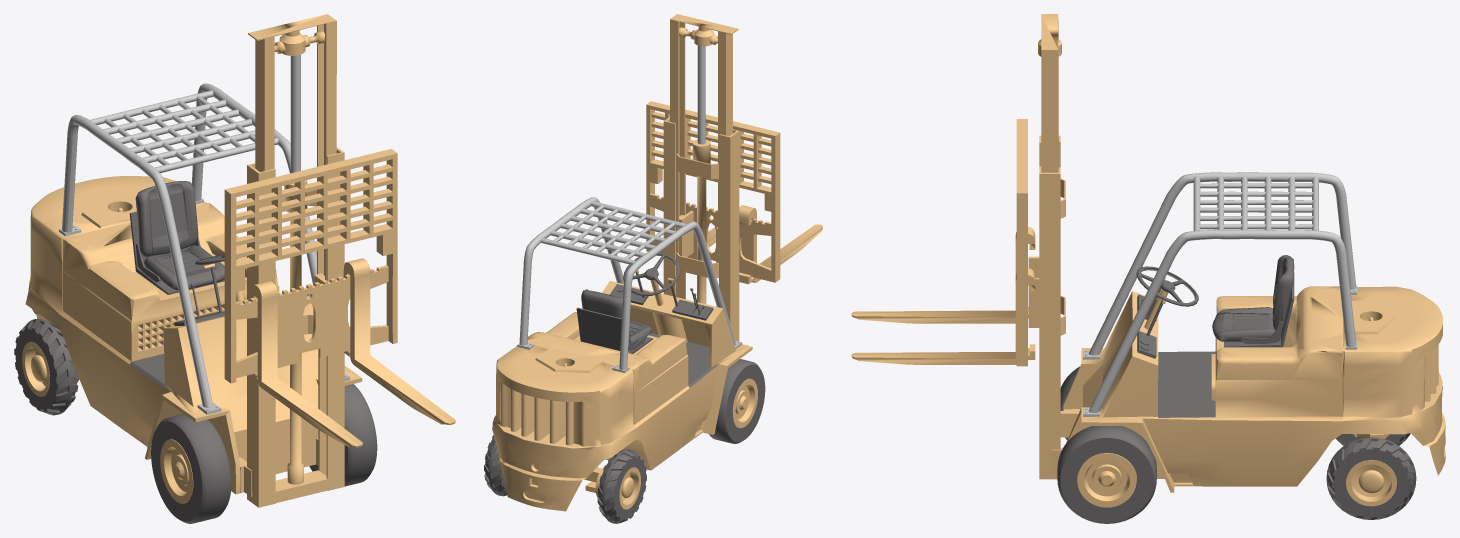
3 renders of one model, left to right at view 1: azimuth 30°, elevation 25°; view 2: azimuth 150°, elevation 25°; view 3: azimuth 270°, elevation 25°, orthographic. The views are drawn at different scales.
Visible parts, largest first — view 1: ET_YELL, ET_BODY, EL_BPLAS, ET_CROM, ET_ELE02, ET_BODG; view 2: ET_BODY, ET_YELL, EL_BPLAS, ET_CROM, ET_ELE02, ET_BODG; view 3: ET_BODY, ET_YELL, EL_BPLAS, ET_CROM, ET_ELE02, ET_BODG.
Boxes of the visible parts, x1=… form: ET_YELL: x1=22, y1=14, x2=455, y2=503; ET_BODY: x1=25, y1=176, x2=362, y2=496; EL_BPLAS: x1=14, y1=181, x2=377, y2=523; ET_CROM: x1=59, y1=54, x2=349, y2=414; ET_ELE02: x1=247, y1=147, x2=344, y2=507; ET_BODG: x1=129, y1=354, x2=170, y2=391; ET_BODY: x1=492, y1=281, x2=752, y2=511; ET_YELL: x1=585, y1=14, x2=822, y2=509; EL_BPLAS: x1=484, y1=252, x2=765, y2=523; ET_CROM: x1=517, y1=45, x2=742, y2=372; ET_ELE02: x1=663, y1=117, x2=739, y2=341; ET_BODG: x1=649, y1=333, x2=718, y2=387; ET_BODY: x1=1051, y1=286, x2=1445, y2=492; ET_YELL: x1=851, y1=14, x2=1396, y2=507; EL_BPLAS: x1=1057, y1=255, x2=1416, y2=523; ET_CROM: x1=1083, y1=172, x2=1356, y2=416; ET_ELE02: x1=1039, y1=135, x2=1060, y2=479; ET_BODG: x1=1154, y1=351, x2=1215, y2=417.
Size of the model in its own units: 2333 by 6326 by 7513.
